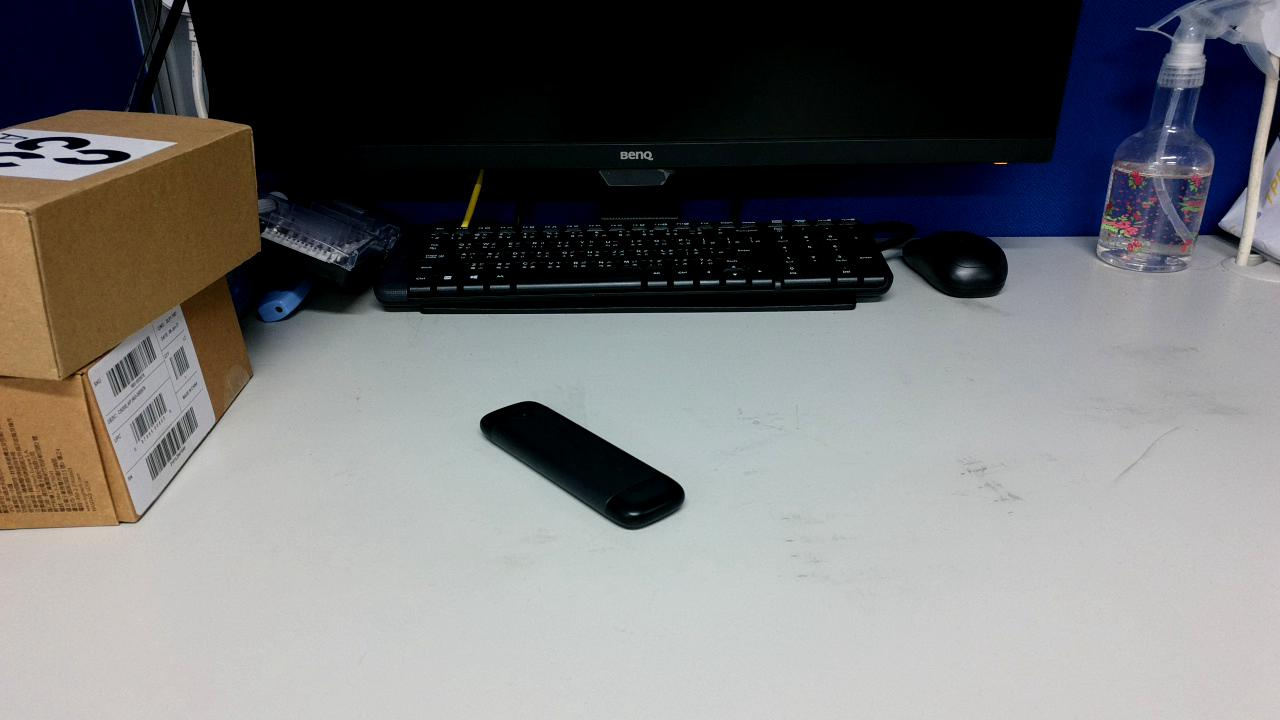long: (496, 528, 834, 614)
